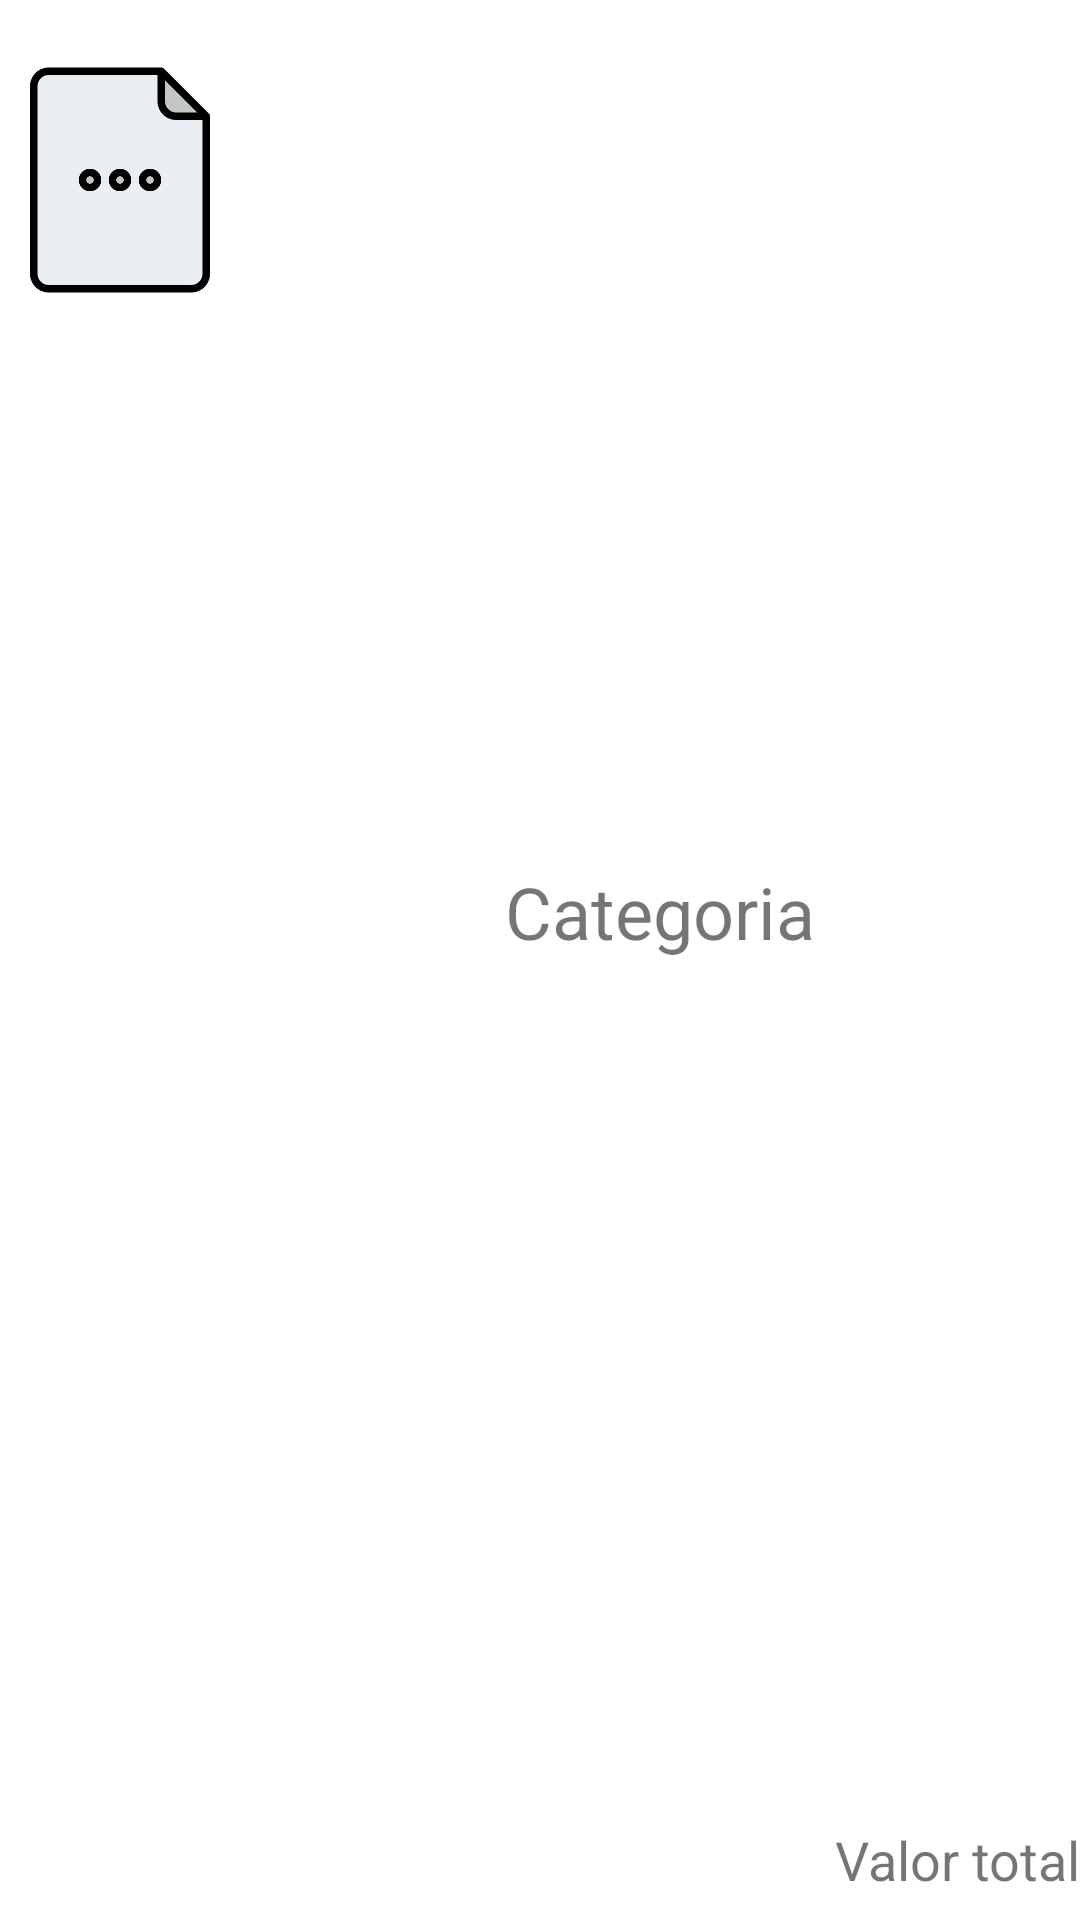

Where icons sit on this 1080w x 1920h app screen, as {"x1": x1, "y1": y1, "x2": x2, "y2": y2}:
file: {"x1": 30, "y1": 67, "x2": 210, "y2": 293}
